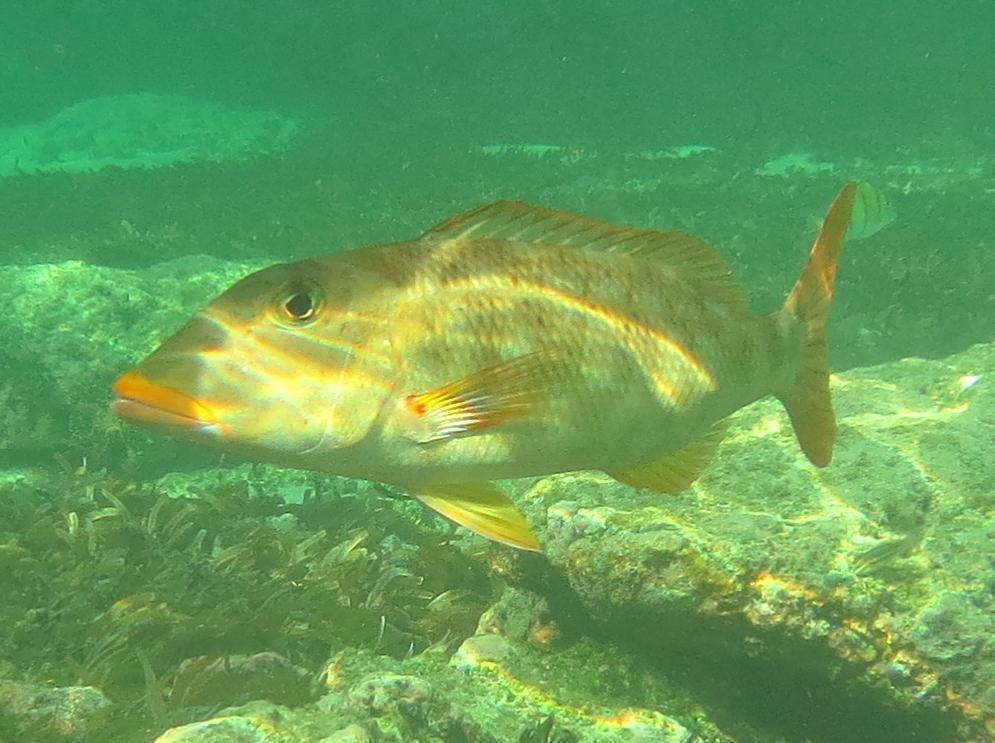Fish: (109, 177, 872, 563)
